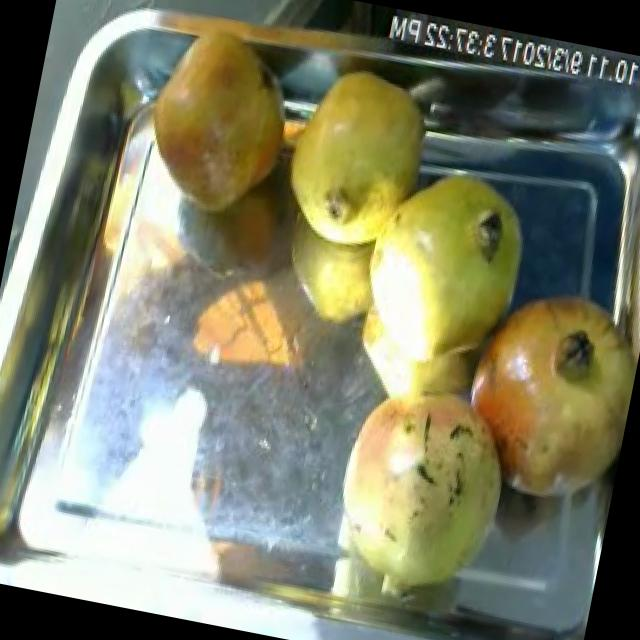fruit: (303, 356, 540, 632), (334, 145, 556, 405), (432, 259, 640, 531), (117, 8, 316, 240), (256, 47, 452, 278)
